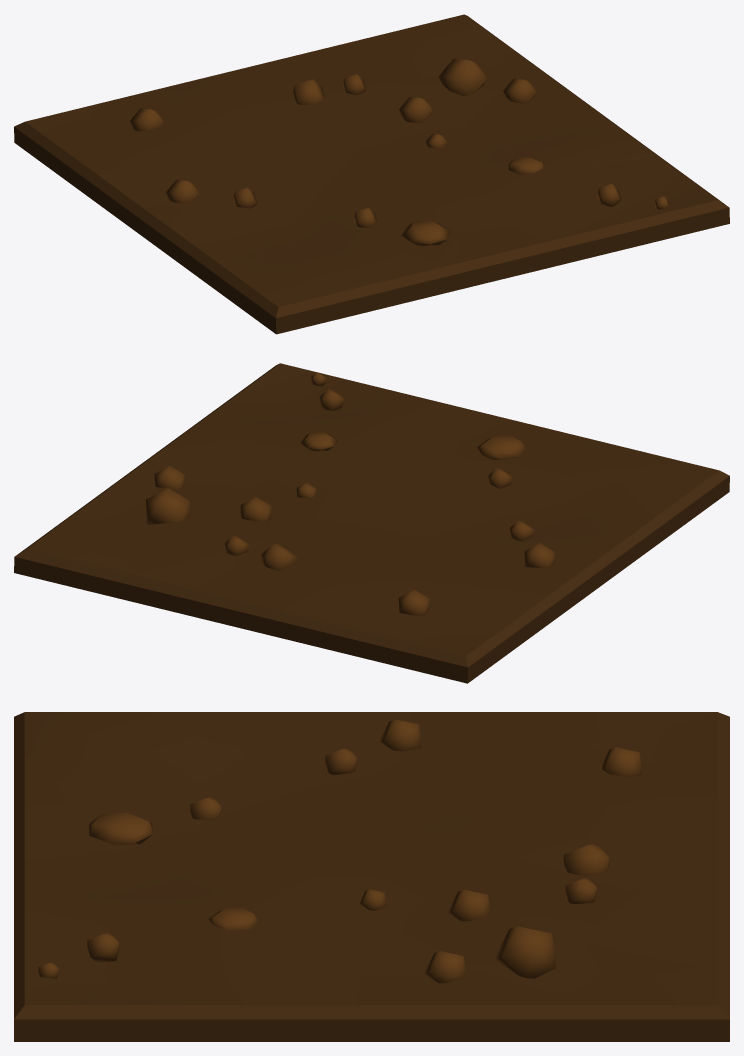
The model's file is dirt4.fbx.
The picture shows the model from 3 angles, top to bottom: view 1: azimuth 30°, elevation 25°; view 2: azimuth 150°, elevation 25°; view 3: azimuth 270°, elevation 25°; orthographic projection. The views are drawn at different scales.
Parts seen in each view (by area): view 1: Sphere.003; view 2: Sphere.003; view 3: Sphere.003.
Boxes of the visible parts, x1,y1,x2,y2 form: Sphere.003: (14,14,729,334); Sphere.003: (14,363,729,683); Sphere.003: (14,712,729,1041).
Size of the model in its own units: 1.05 by 0.106 by 1.05.
